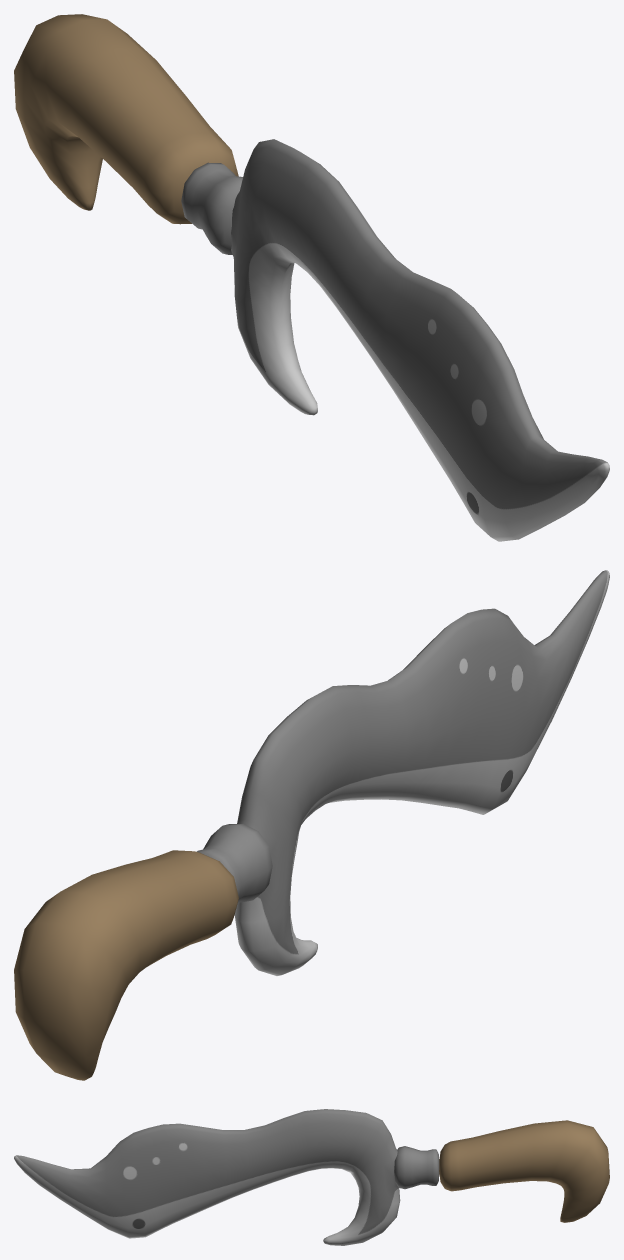
Rendered from Kujang.fbx.
3 renders of one model, top to bottom at view 1: azimuth 30°, elevation 25°; view 2: azimuth 150°, elevation 25°; view 3: azimuth 270°, elevation 25°, orthographic. The views are drawn at different scales.
Visible parts, largest first — view 1: Kujang; view 2: Kujang; view 3: Kujang.
Boxes of the visible parts, x1,y1,x2,y2 form: Kujang: (14,14,609,541); Kujang: (14,570,609,1080); Kujang: (14,1109,609,1245).
Bounding box in the file's own units: 9.42 × 24.85 × 98.1.
